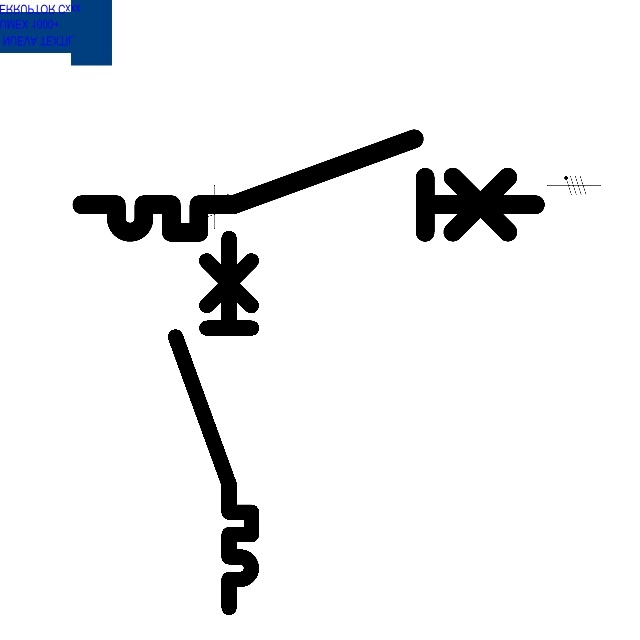interruptor_termomagnetico: (70, 127, 547, 244), (166, 228, 261, 616)
